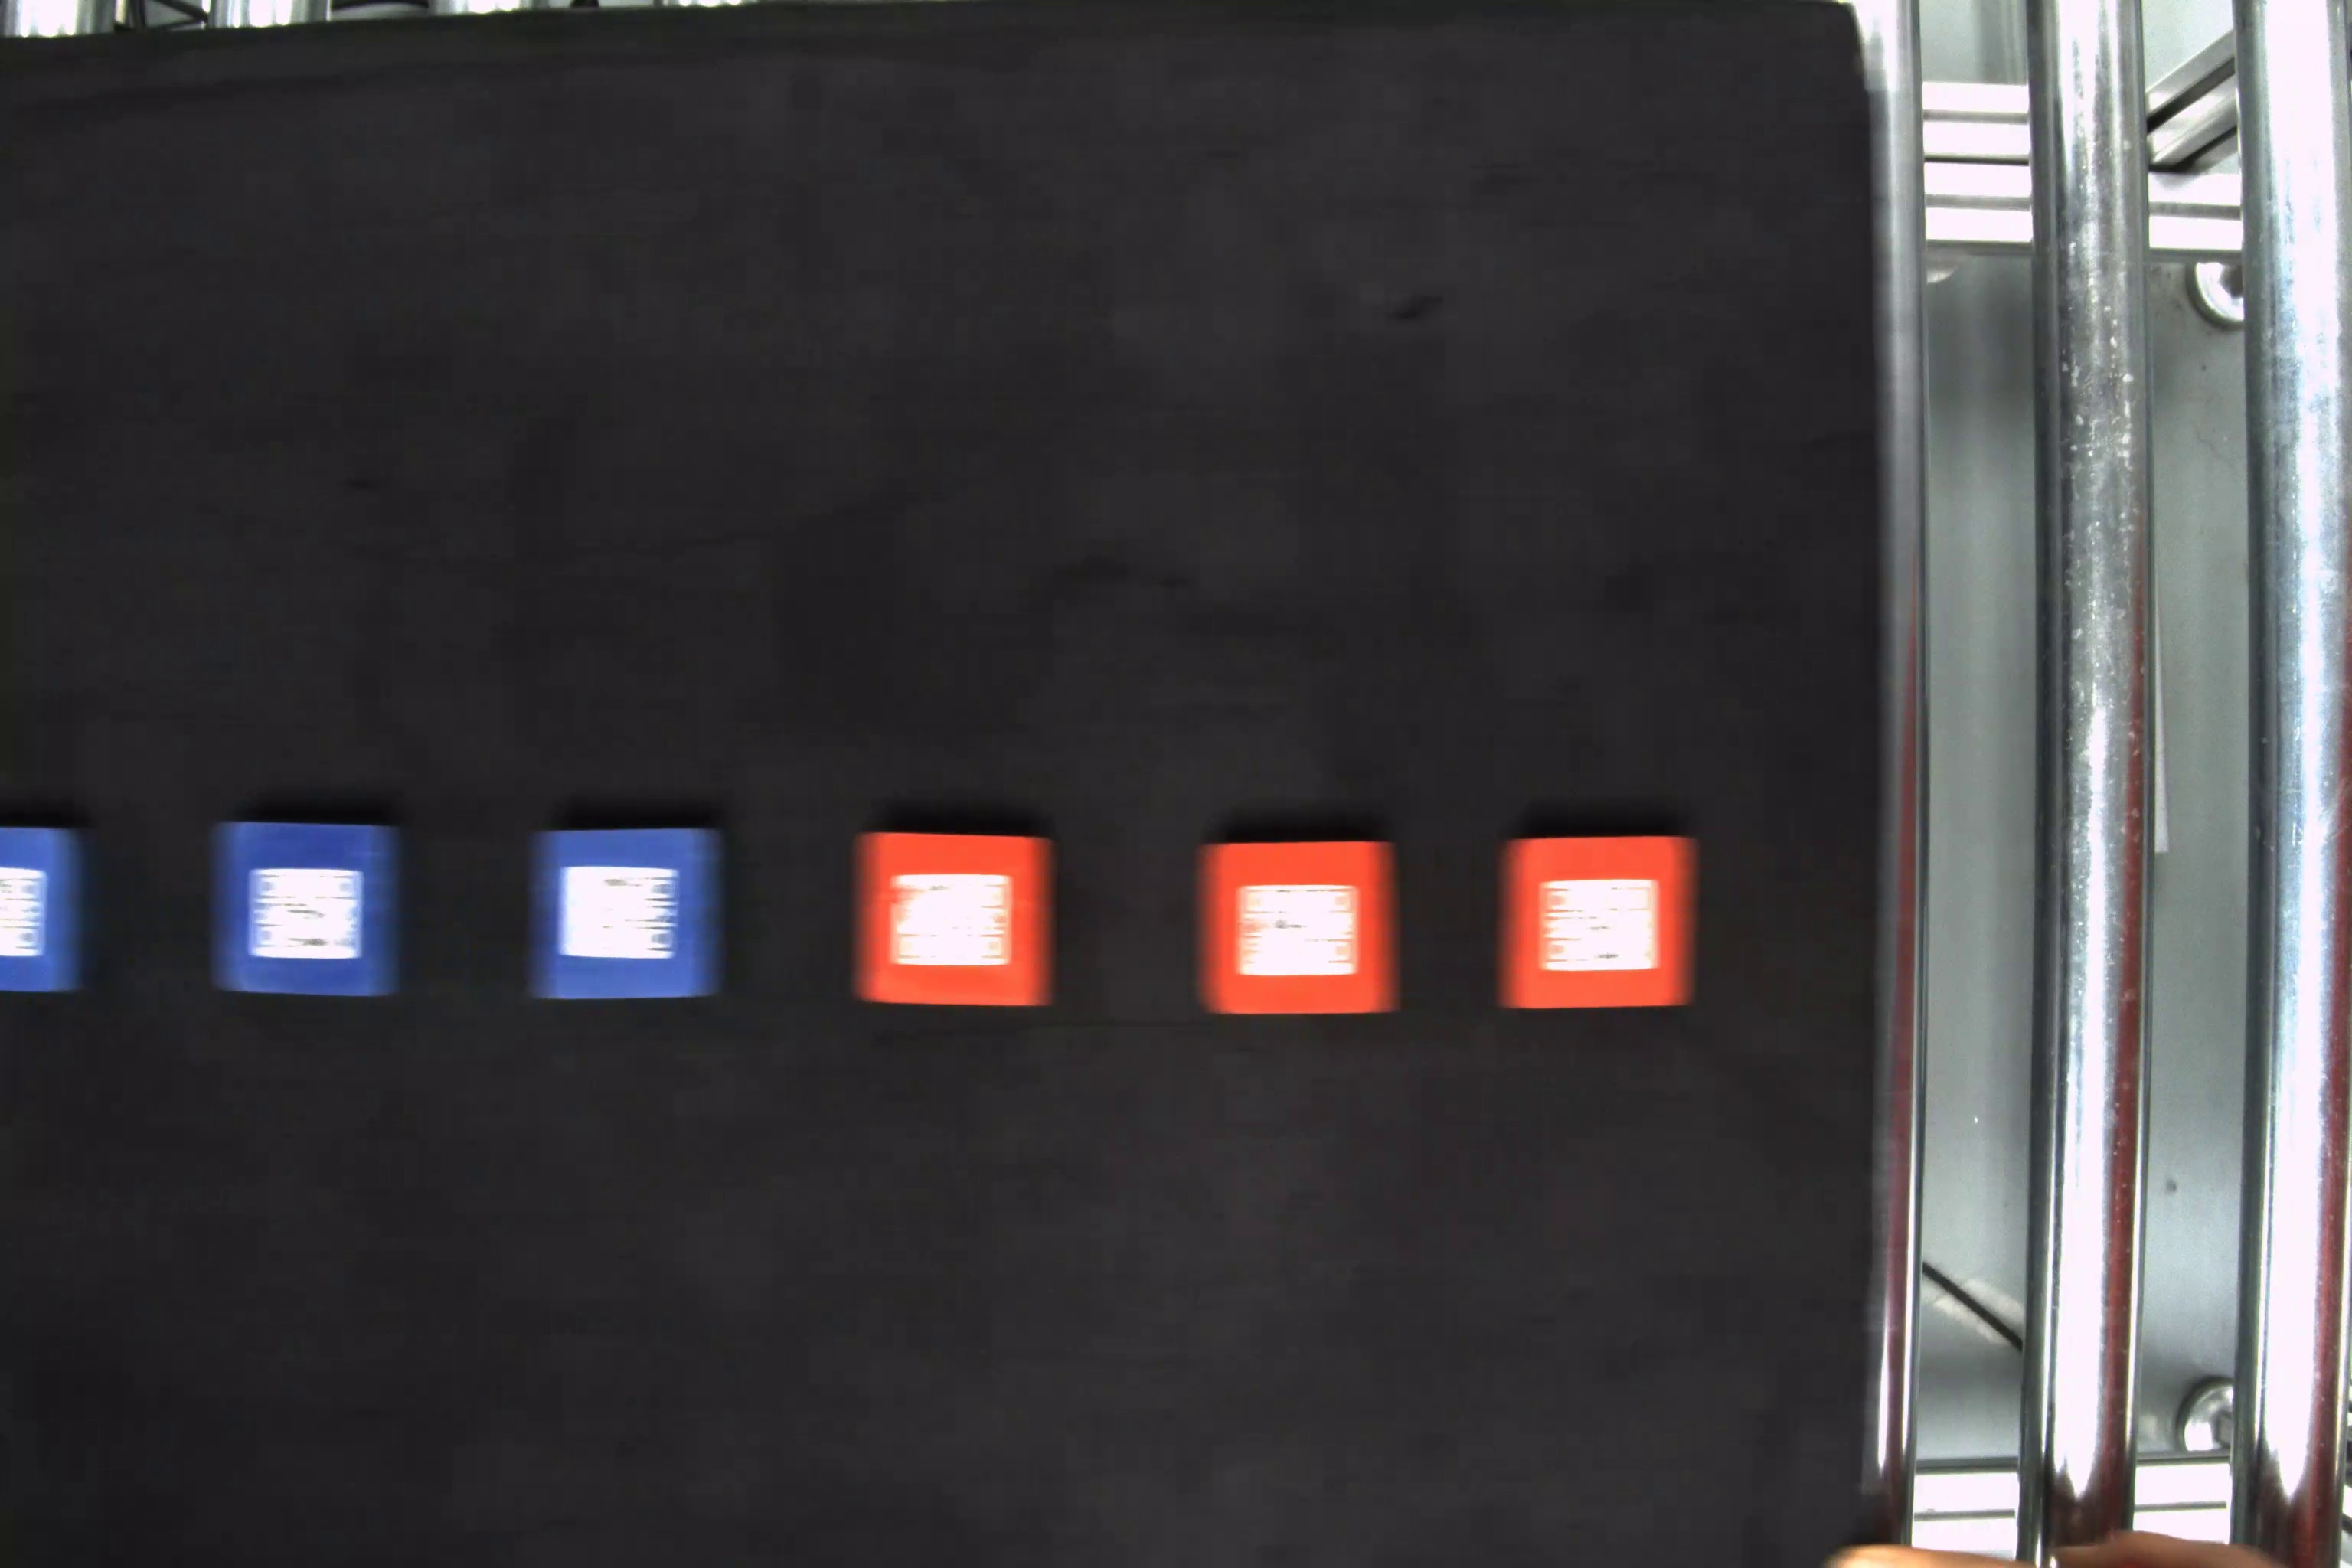wood: (1197, 836, 1410, 1018), (208, 814, 406, 1006), (525, 826, 731, 1006), (852, 829, 1057, 1008), (1501, 833, 1706, 1011), (0, 826, 87, 992)
